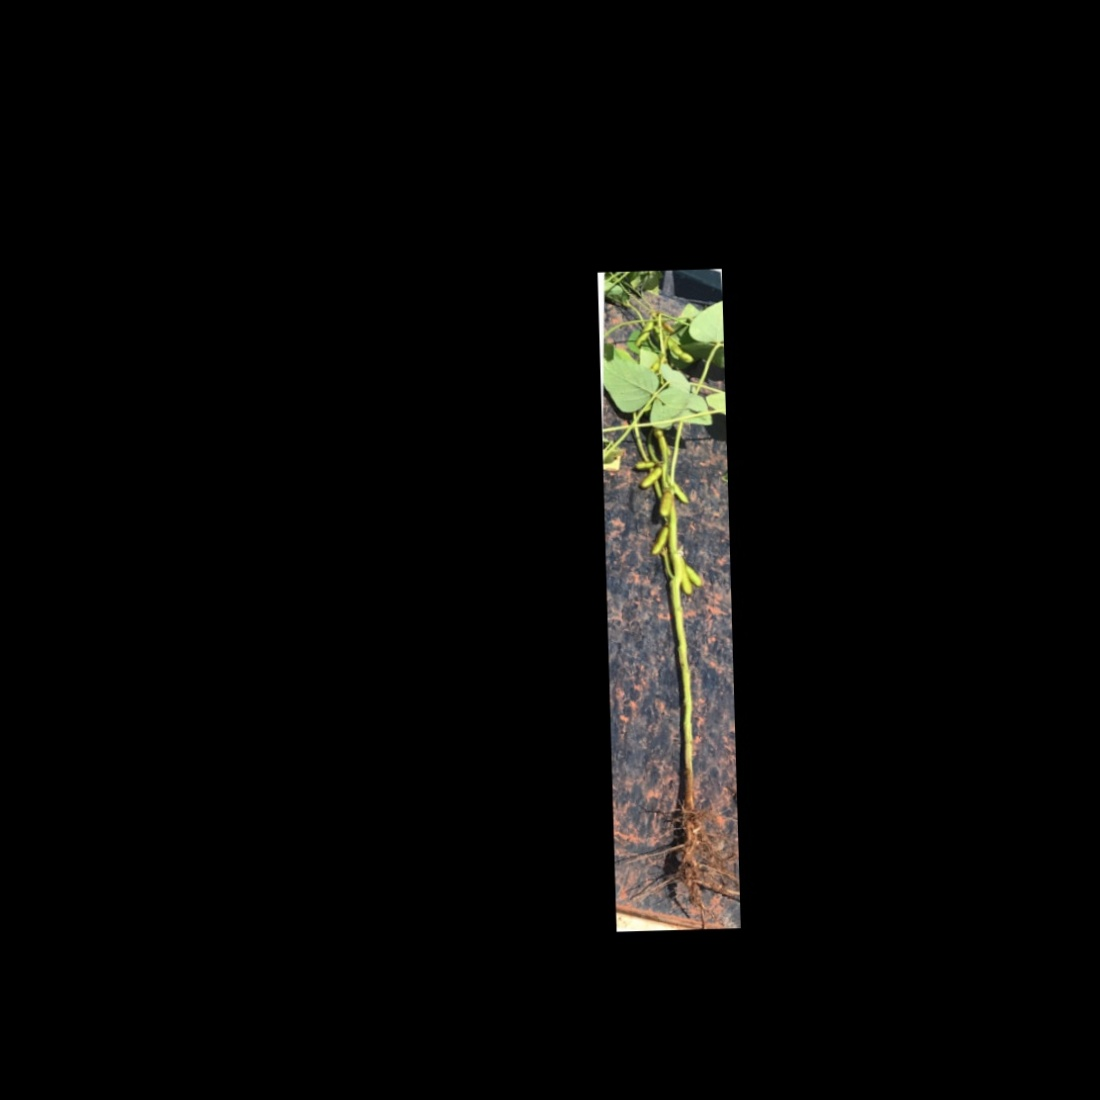pod: (662, 470, 694, 507), (660, 334, 695, 365), (641, 523, 670, 559), (677, 553, 695, 599), (637, 467, 666, 490), (656, 490, 674, 518), (630, 458, 661, 471)
soy: (601, 281, 734, 885)
